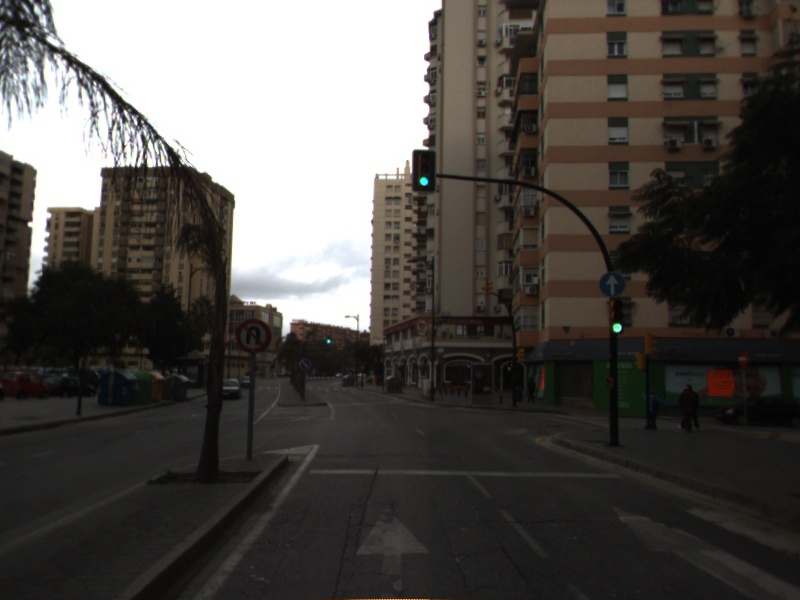STRAIGHT: (352, 504, 436, 600)
